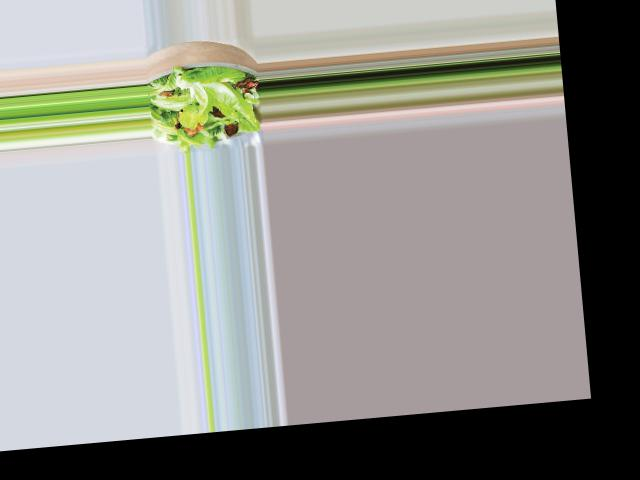lettuce: (152, 62, 253, 148)
